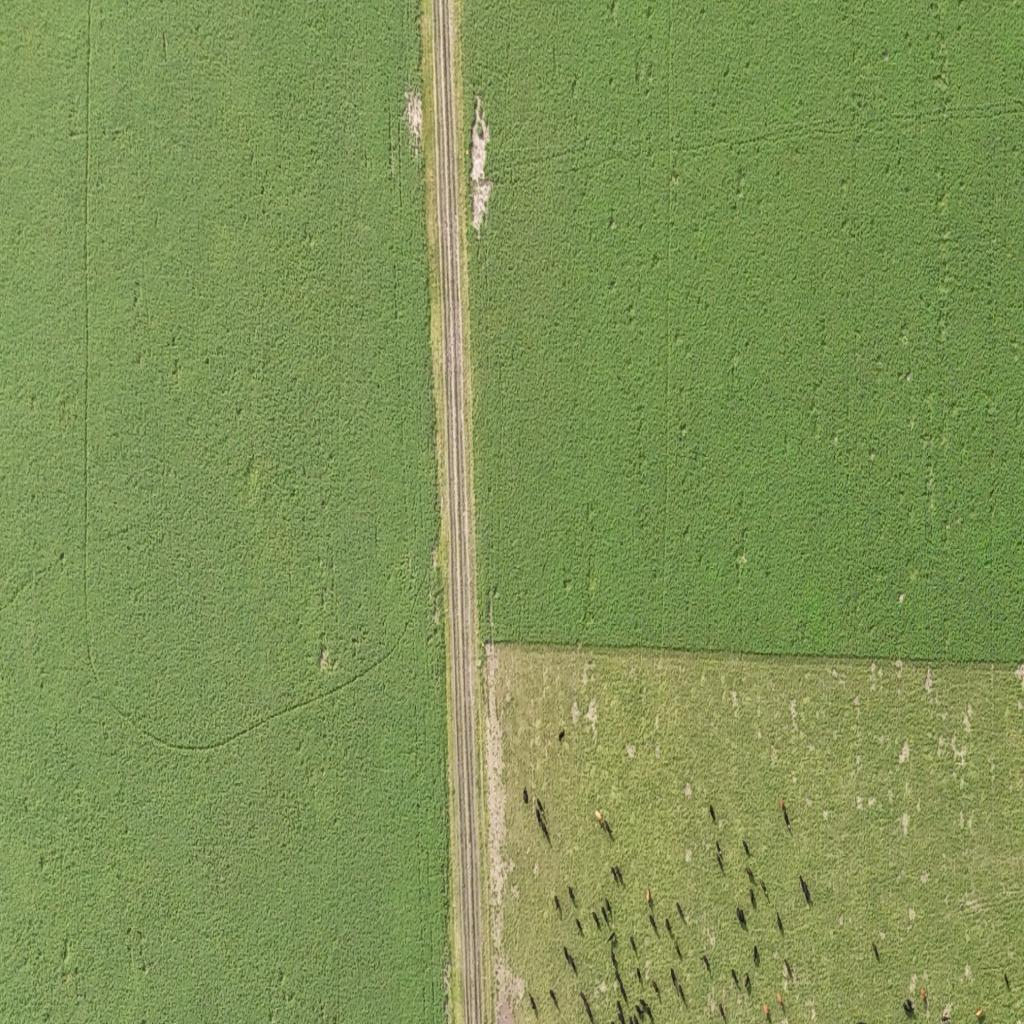cow: (778, 800, 794, 828), (580, 990, 594, 1022), (670, 968, 682, 1002), (614, 972, 627, 1003), (799, 874, 811, 906), (552, 724, 570, 744), (637, 1000, 653, 1022), (565, 949, 577, 976), (750, 906, 761, 934), (678, 980, 688, 1008), (614, 1000, 626, 1023), (611, 865, 624, 886), (736, 906, 747, 930), (648, 912, 659, 935), (528, 992, 538, 1017), (549, 988, 559, 1012), (604, 817, 614, 839), (676, 901, 686, 923), (675, 939, 685, 961), (651, 979, 661, 1001), (592, 910, 602, 932), (784, 959, 793, 982), (776, 911, 784, 936), (746, 866, 756, 886), (533, 806, 543, 826), (605, 897, 613, 921), (630, 934, 638, 958), (702, 954, 711, 975), (764, 1001, 772, 1024), (714, 838, 724, 856), (539, 823, 549, 840), (921, 986, 928, 1010), (568, 885, 576, 906), (760, 878, 768, 899), (732, 968, 740, 989), (628, 1010, 640, 1024), (749, 887, 756, 910), (610, 946, 617, 969), (708, 804, 716, 824), (872, 942, 880, 962), (576, 917, 584, 937), (666, 916, 674, 936), (646, 886, 653, 908), (554, 895, 561, 917), (744, 973, 751, 995), (719, 1003, 727, 1022), (1004, 971, 1011, 992), (742, 839, 750, 857), (608, 929, 617, 945), (636, 967, 643, 987), (753, 943, 759, 966), (974, 1008, 986, 1019), (716, 856, 724, 872), (907, 996, 915, 1012), (903, 999, 910, 1017), (941, 1010, 951, 1022), (536, 796, 544, 810), (594, 809, 602, 823), (522, 786, 528, 804), (777, 991, 783, 1007)
